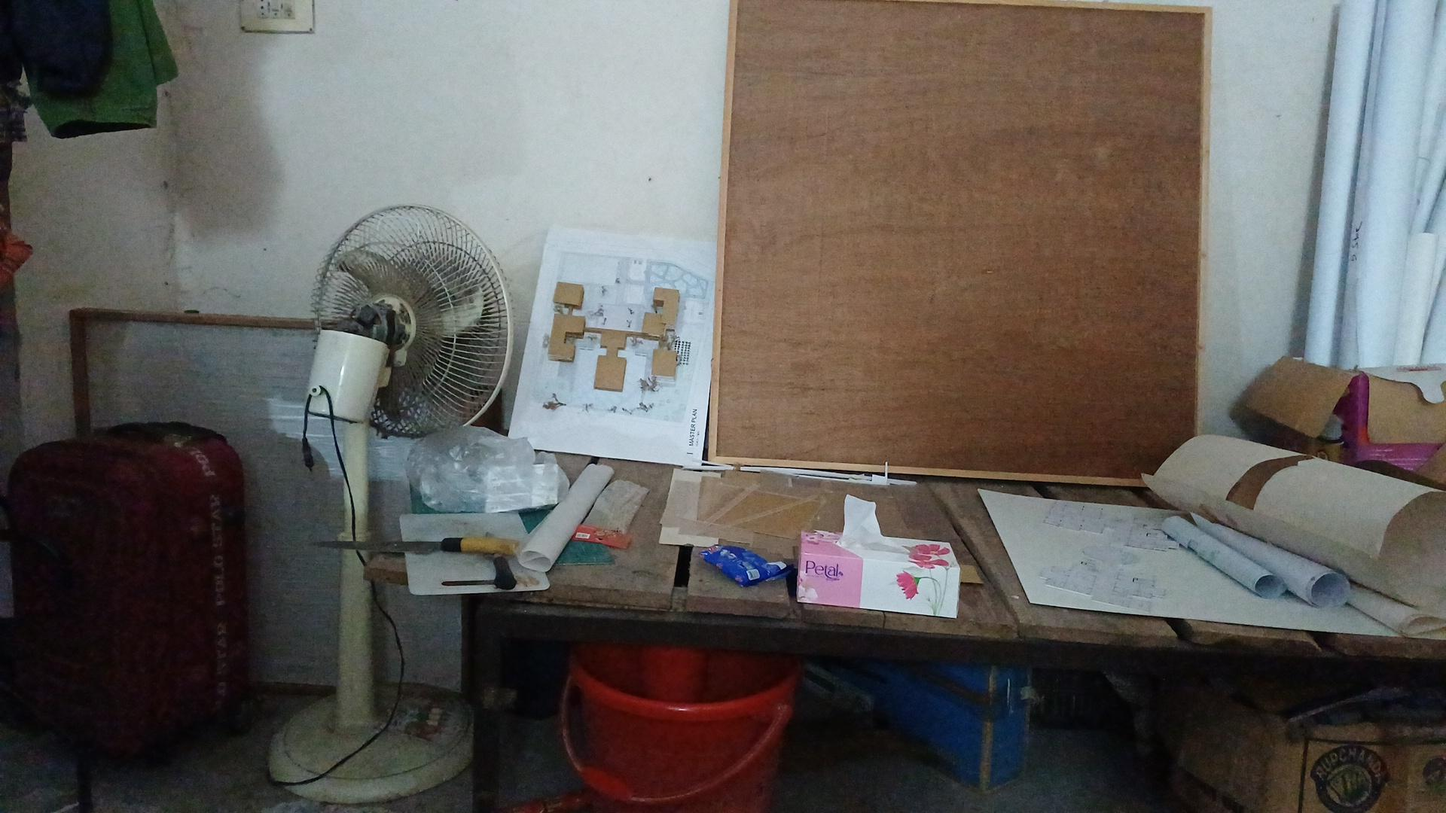Box: (1117, 653, 1428, 808), (788, 512, 993, 624)
Bucket: (545, 624, 788, 795)
Fan: (270, 168, 513, 698)
Knife: (302, 514, 534, 583)
Photo: (529, 221, 720, 465)
